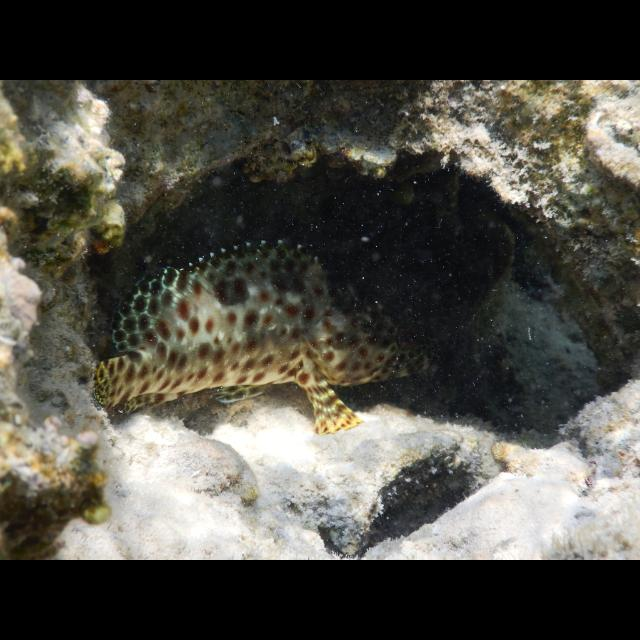Groupers: (93, 230, 441, 434)
